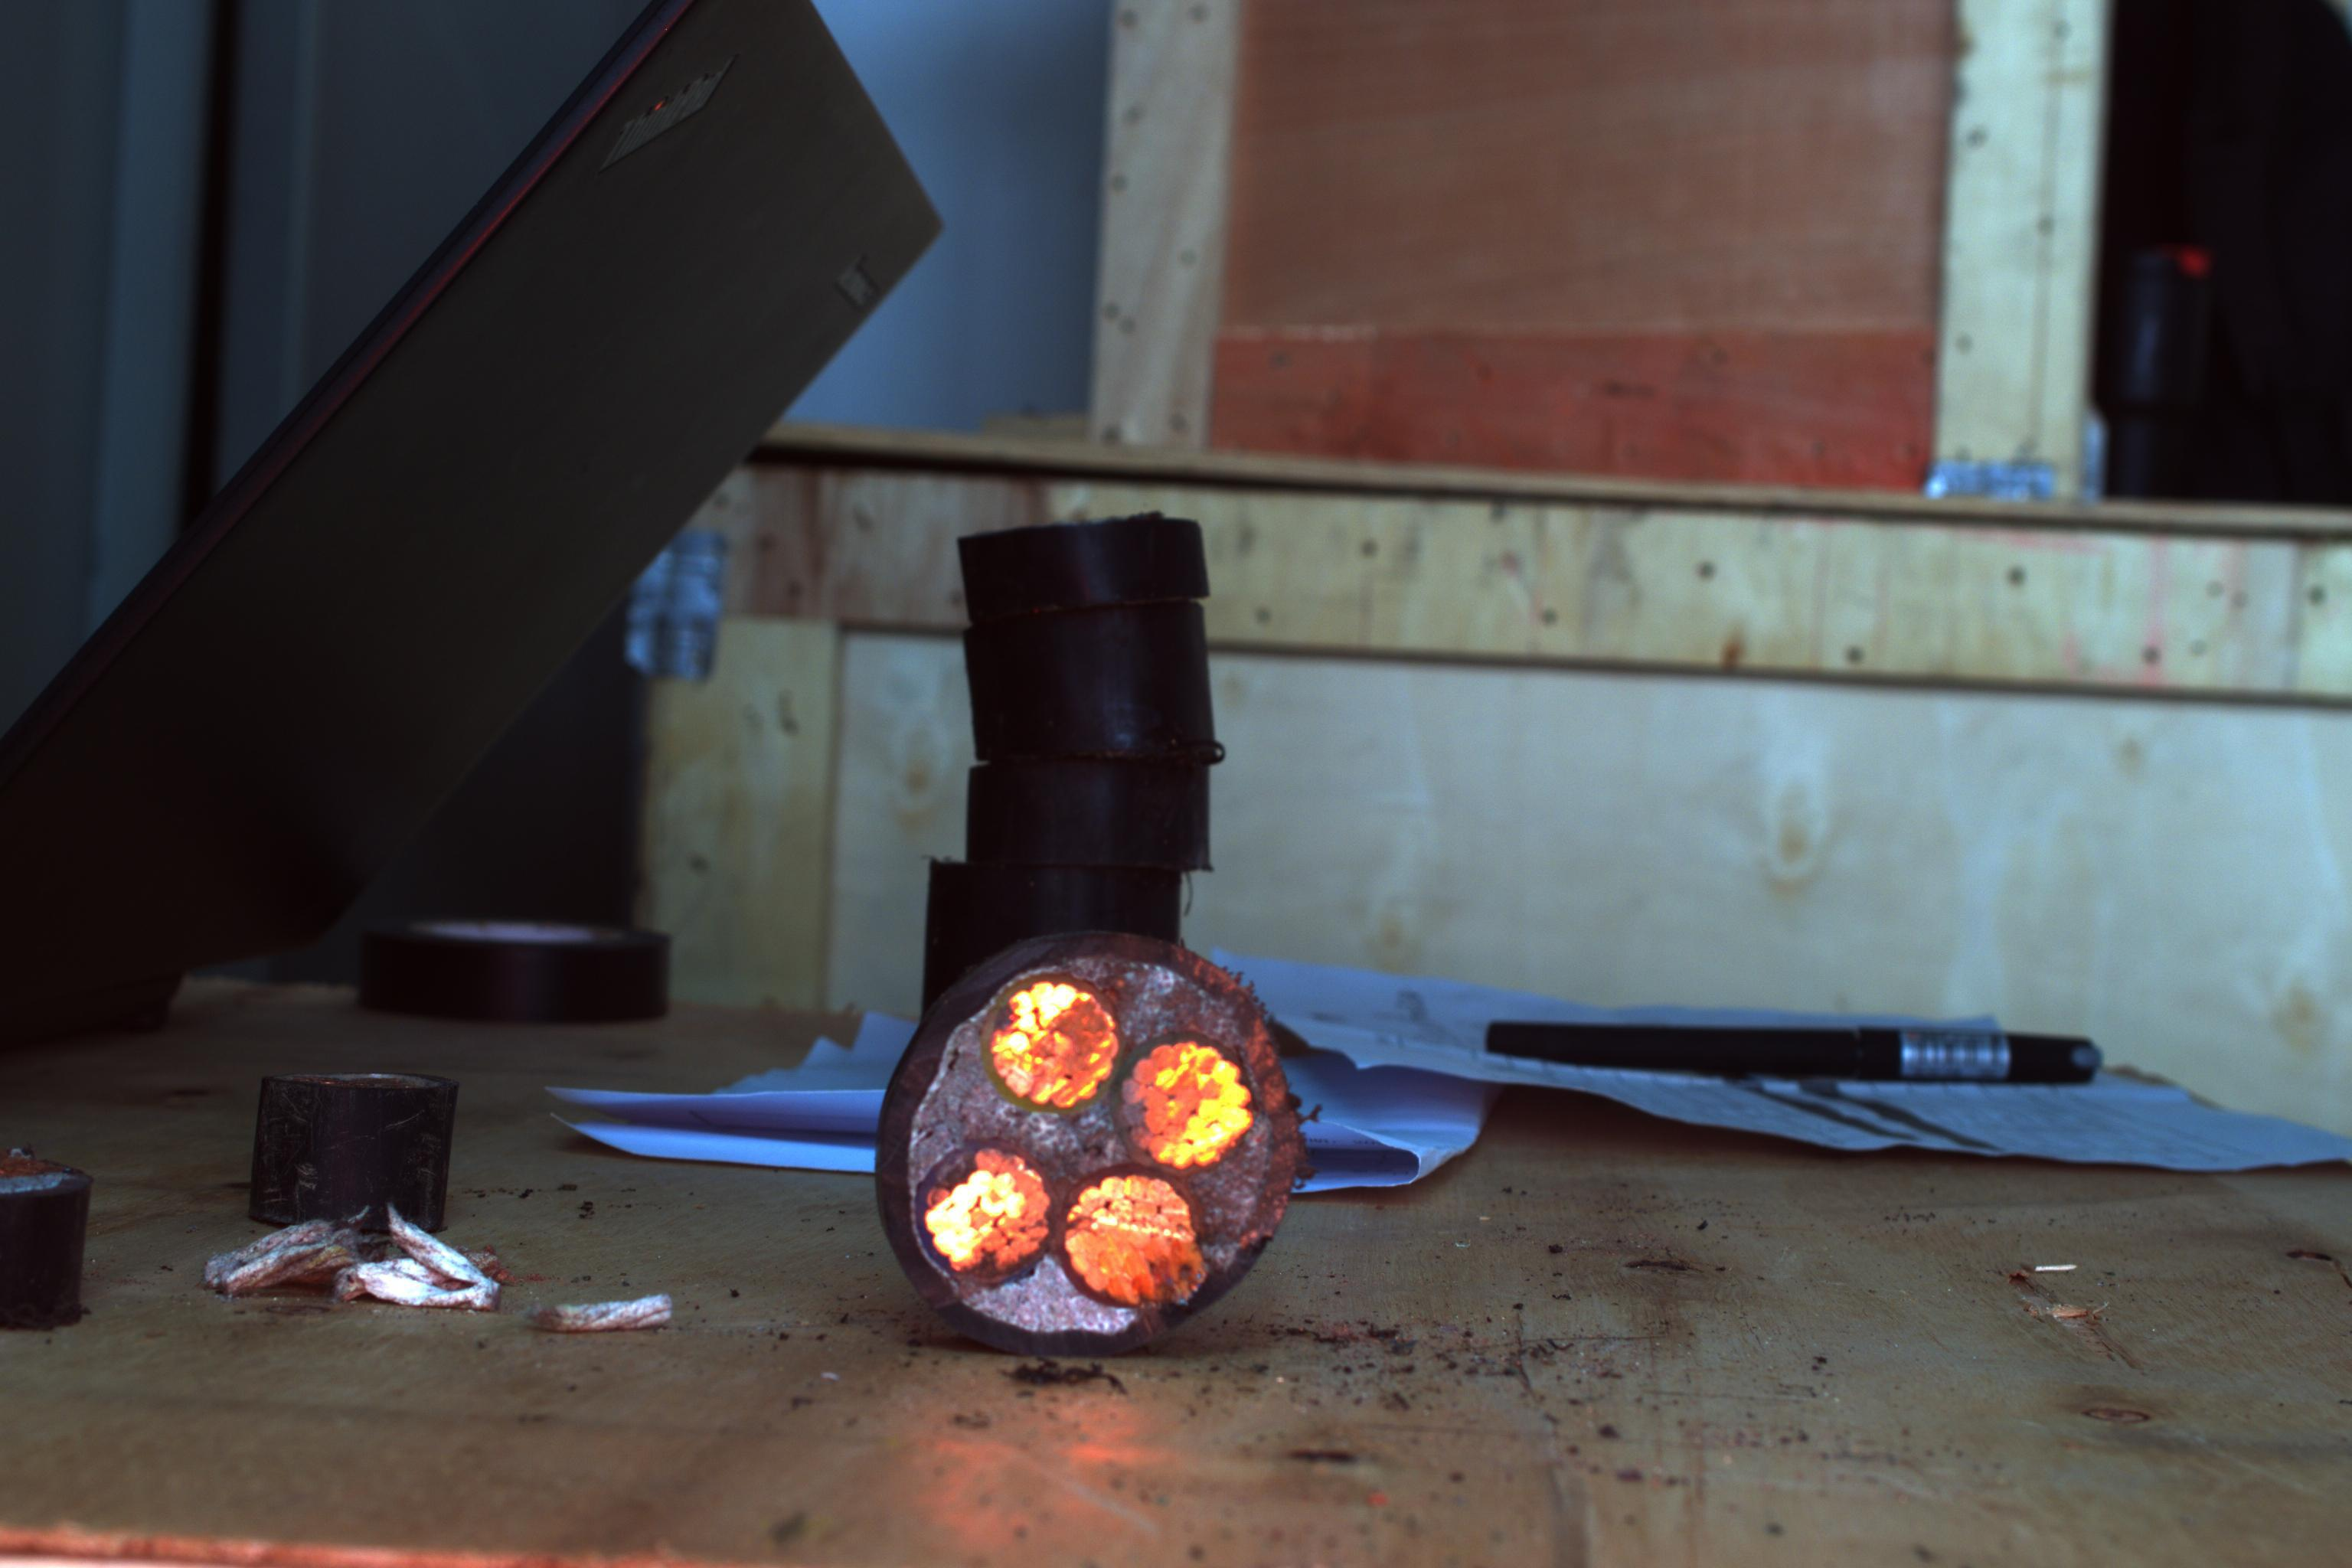YJV_0.6_1kV_4x120: (849, 931, 1323, 1356)
